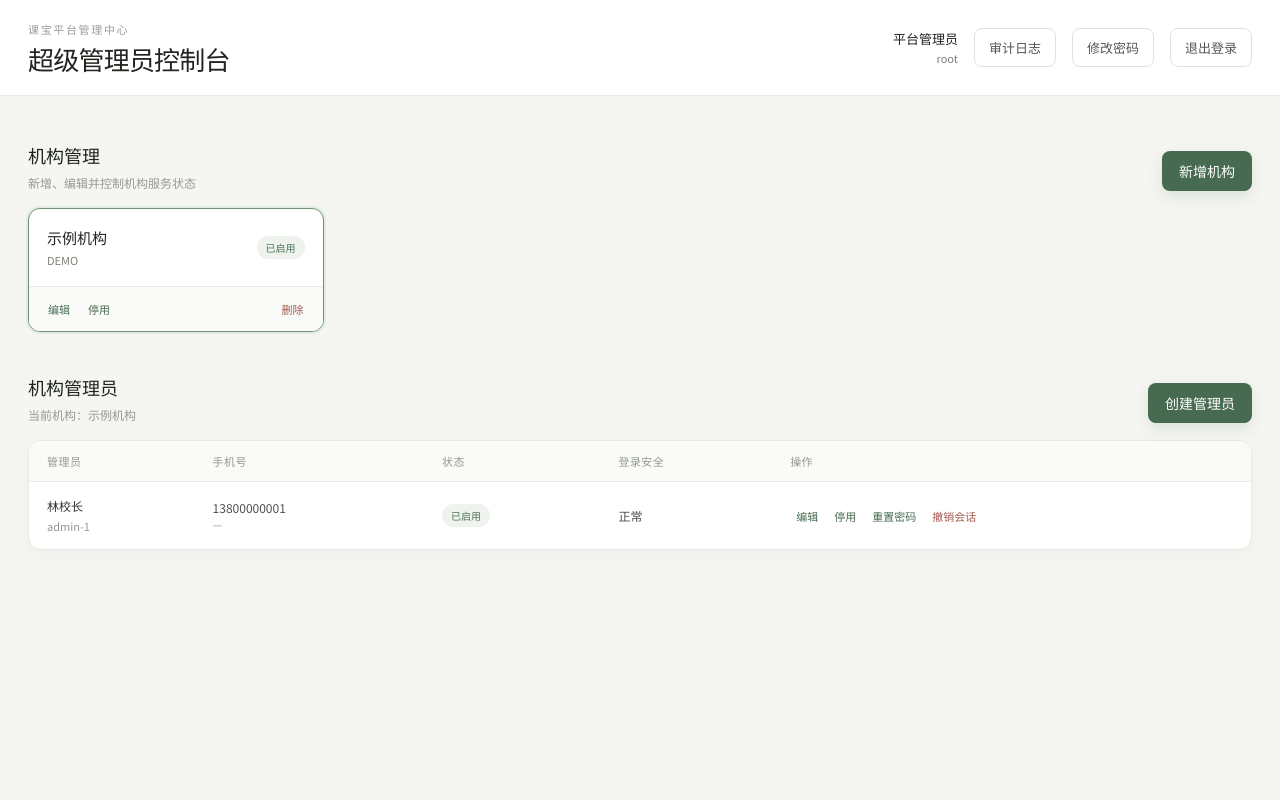
Test: 超级管理员界面 › 重置密码不提交请求体并展示服务端临时密码
Expected: the text "林校长" is shown, [47, 497, 83, 514]
Click the button "重置密码": click(894, 516) [866, 504, 922, 528]
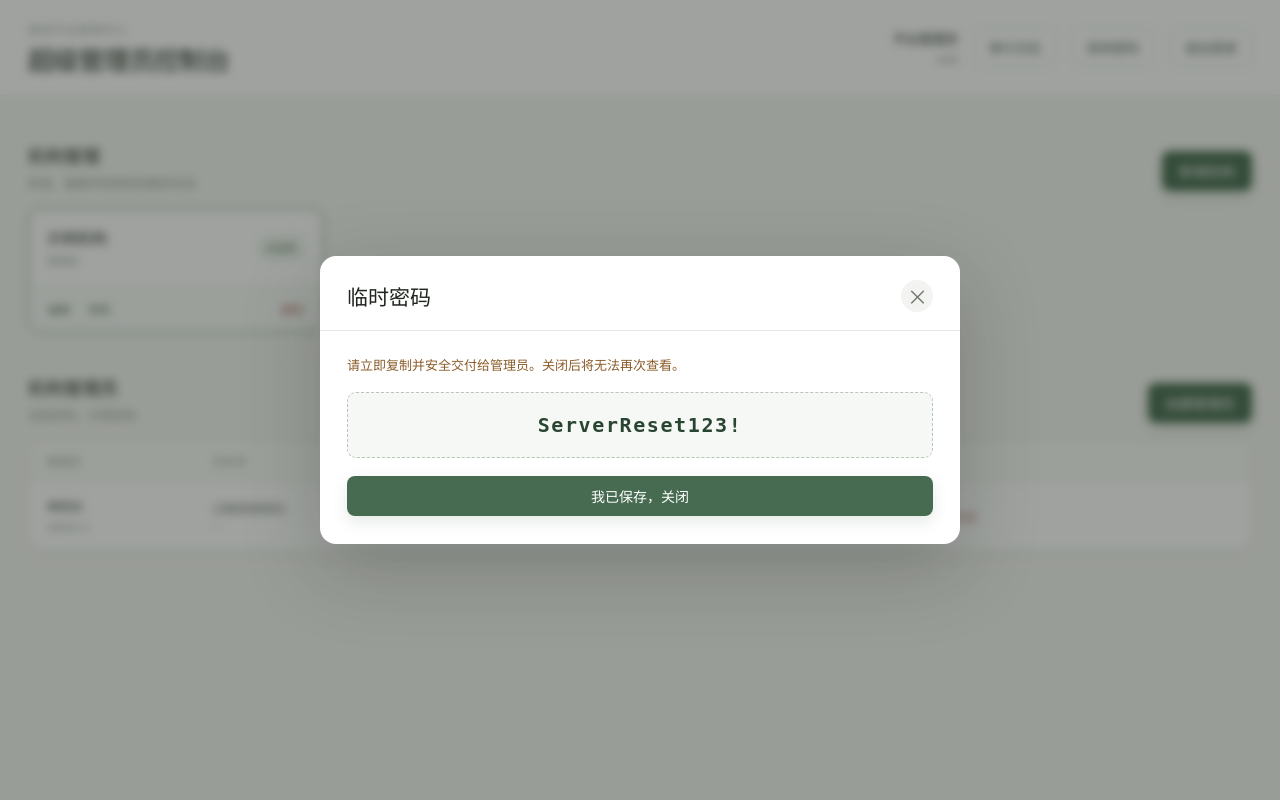
Now the text named "临时密码值" reads "ServerReset123!", box [538, 413, 742, 437]
